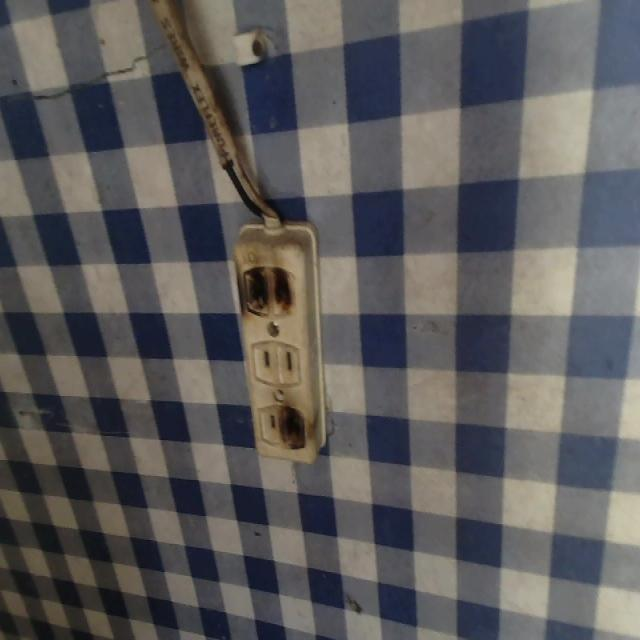-: (232, 258, 298, 322), (273, 403, 309, 456)
